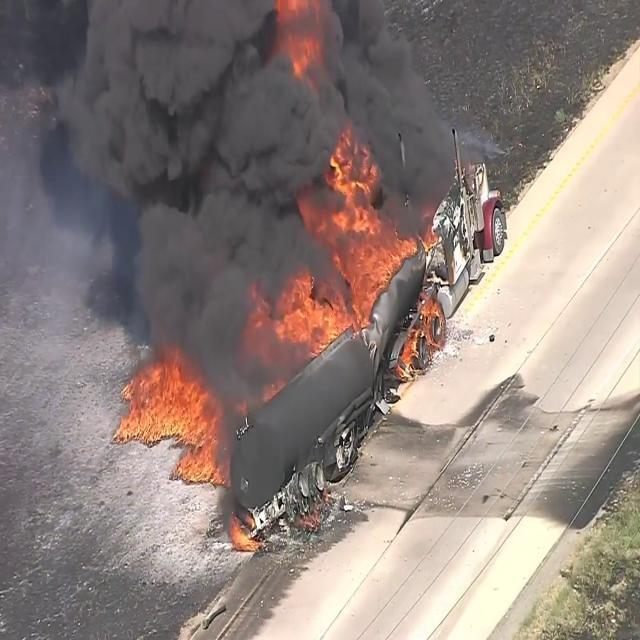Fire: (311, 132, 427, 300), (112, 348, 228, 474), (261, 268, 357, 364)
Smoke: (5, 1, 445, 354)
